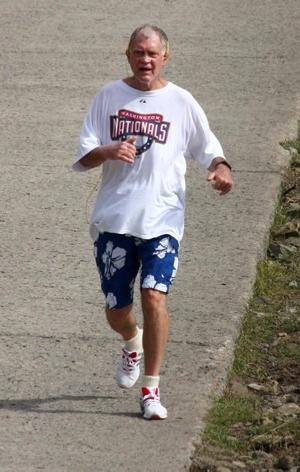person: (71, 25, 233, 421)
